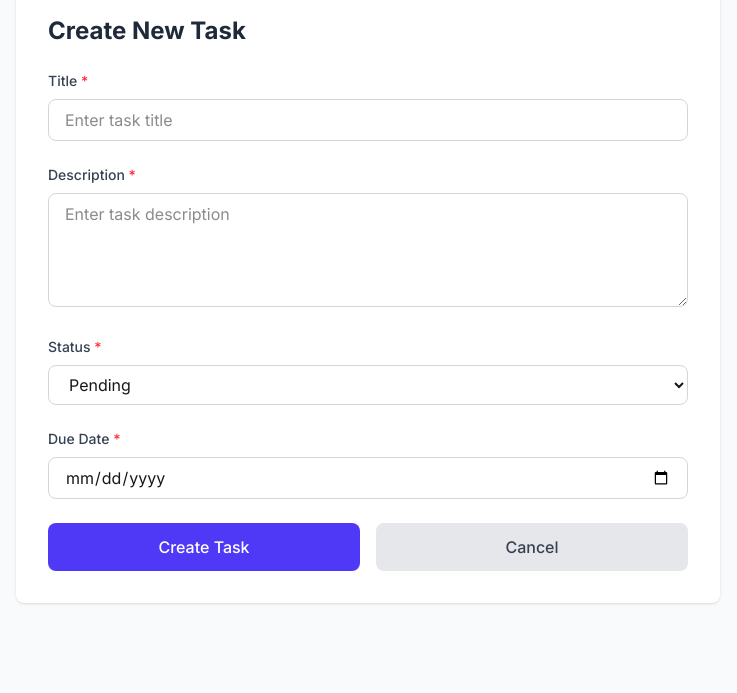
Scenario: New Task Page › should show validation error for short title
Expected: the heading "Create New Task" is shown, [48,16,246,45]
Type "ab" into the field with placeholder "Enter task title". click: (368, 120)
box: [48,99,688,141]
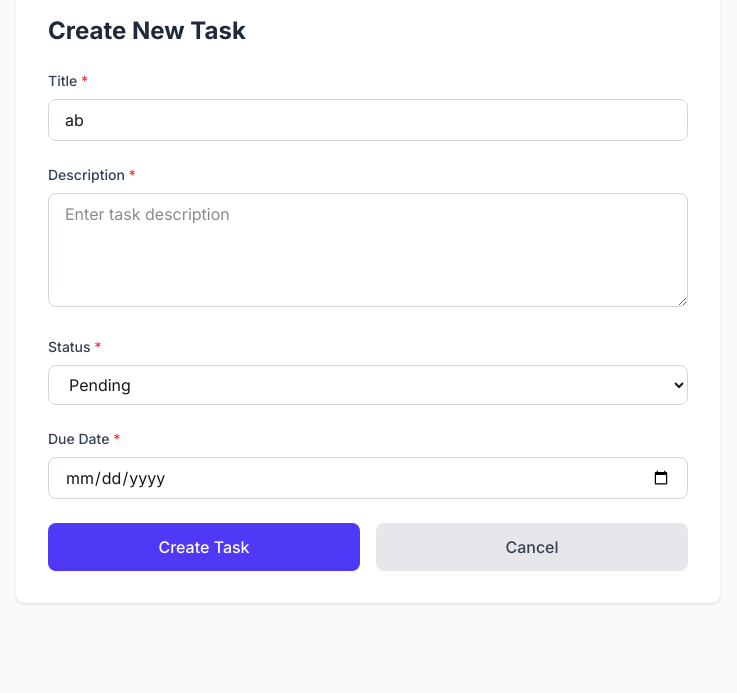
Click the button "Create Task". click: (204, 547)
box: [48,523,360,571]
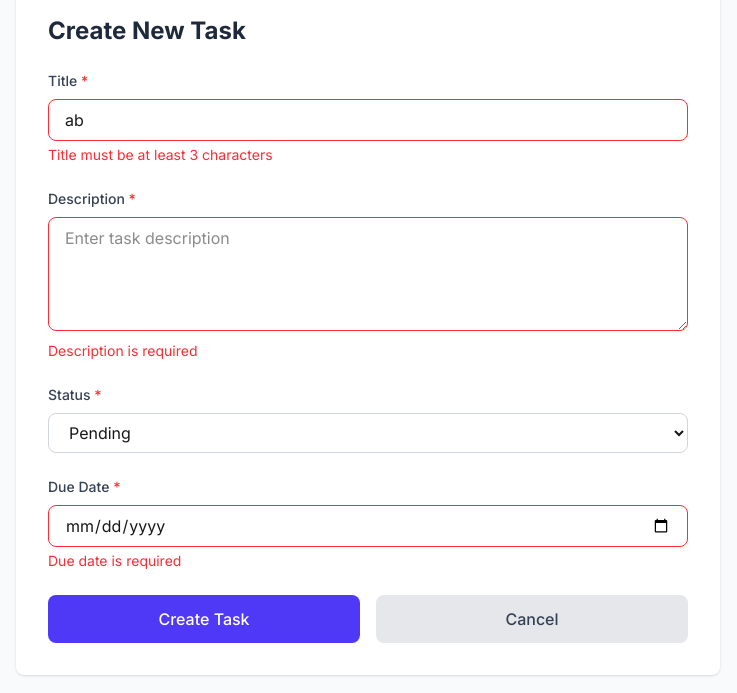
Now the text "Title must be at least 3 characters" is shown, box [48,146,273,163]
